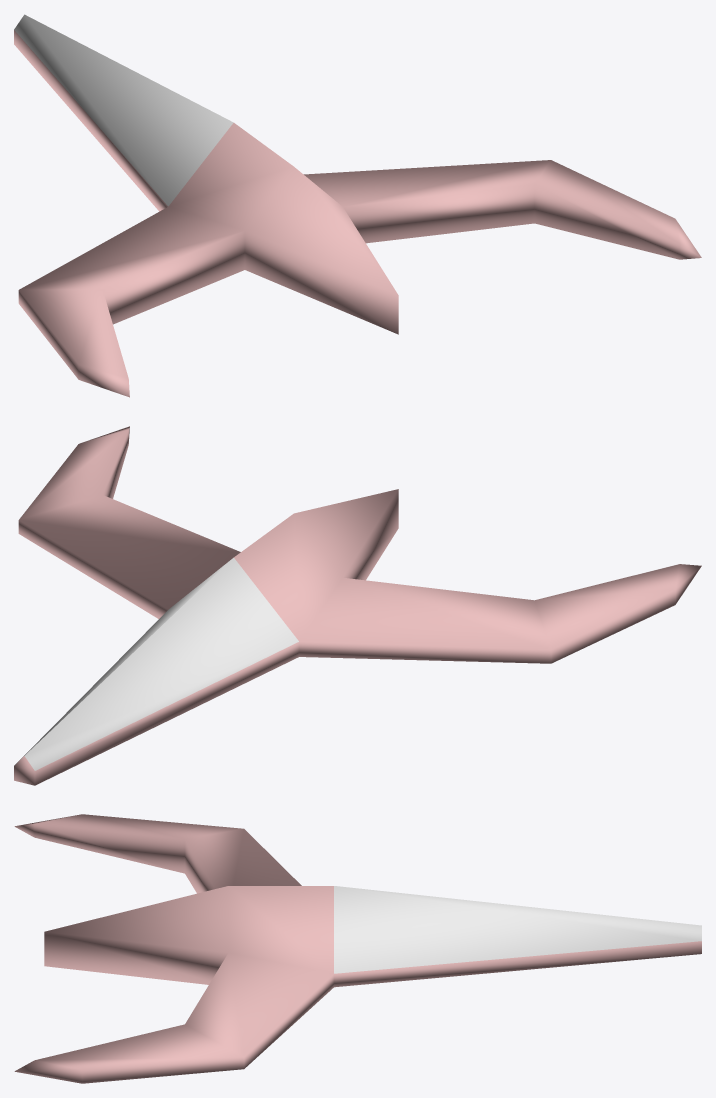
File: Swarm_1.fbx
3 views of the same model, one above another, from view 1: azimuth 30°, elevation 25°; view 2: azimuth 150°, elevation 25°; view 3: azimuth 270°, elevation 25° (orthographic). The views are drawn at different scales.
Parts seen in each view (by area): view 1: swarm_1; view 2: swarm_1; view 3: swarm_1.
Boxes of the visible parts, x1,y1,x2,y2 form: swarm_1: (14,14,701,397); swarm_1: (14,426,701,785); swarm_1: (14,814,701,1083).
Size of the model in its own units: 166 by 24.25 by 188.
